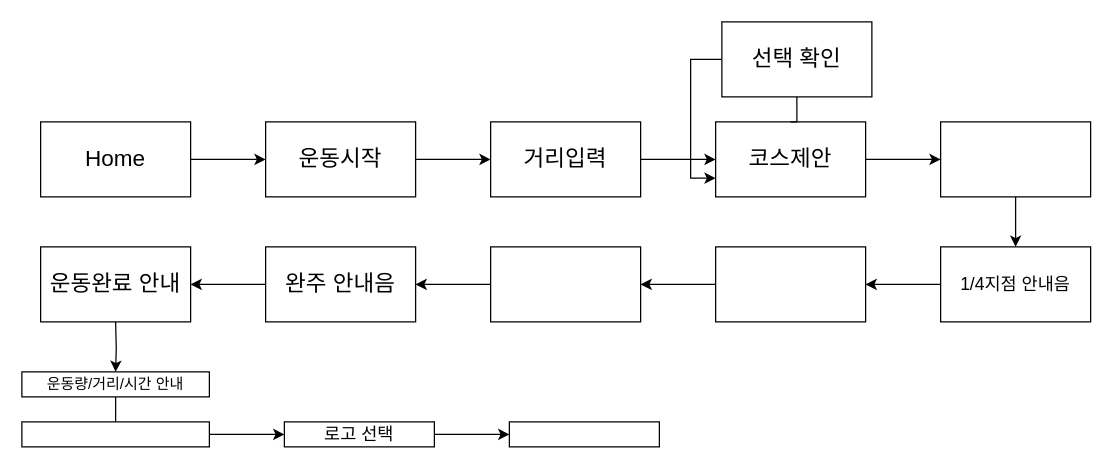
The diagram is 1113 pixels wide and 469 high, and some of its shapes have lost their labels. The box of each missing label's shape, as (x1, y1, x2, y2) in pixels:
2/4지점 안내음: (714, 246, 866, 322)
3/4지점 안내음: (489, 246, 641, 322)
다운로드: (508, 421, 659, 447)
코스 그림 안내: (21, 421, 209, 447)
코스 안내: (939, 121, 1091, 197)
